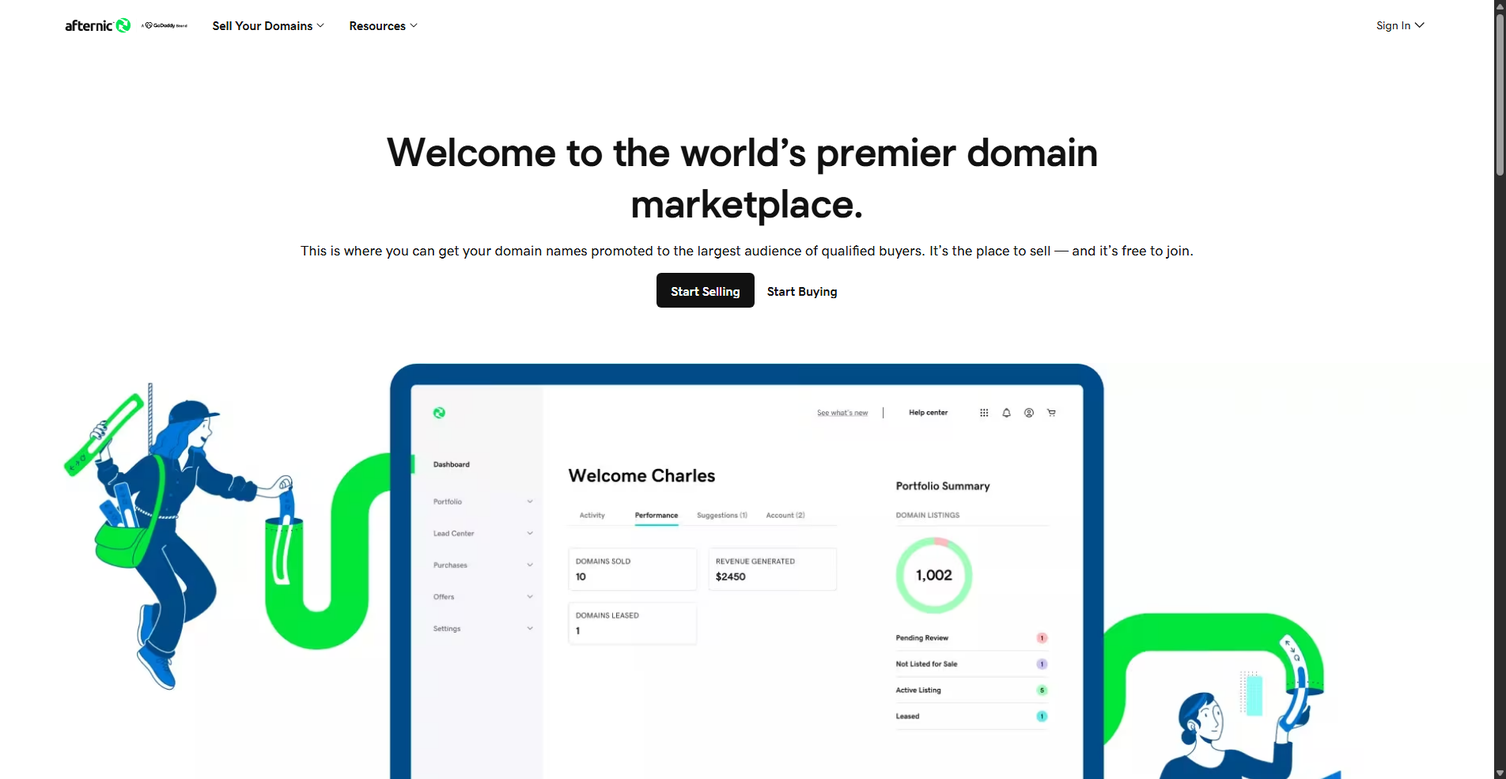button: (203, 9, 336, 41), (657, 273, 754, 308), (340, 9, 430, 41), (767, 281, 837, 300), (671, 281, 740, 300), (1414, 63, 1433, 82)
link: (60, 13, 192, 38), (1213, 254, 1318, 272), (1213, 127, 1252, 144)
